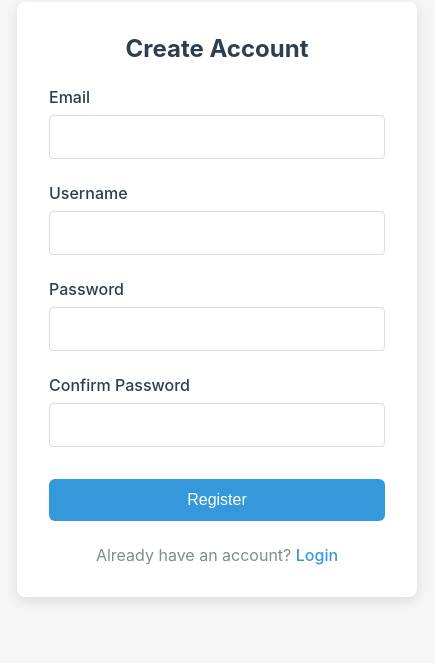
Test: Register Component › displays error on registration failure
In the field labelled "Email": (217, 137) [49, 115, 385, 159], type "test@example.com"
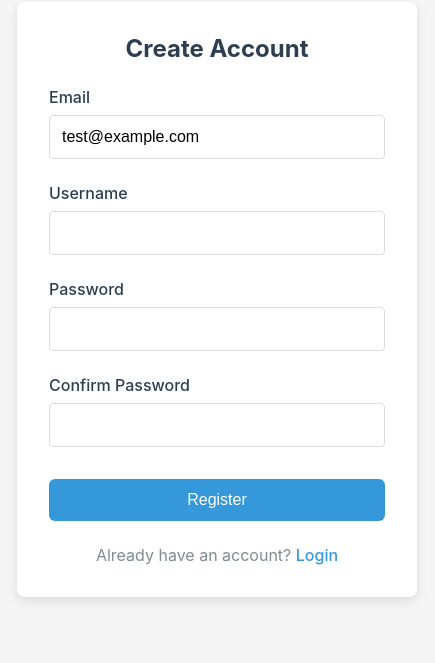
In the field labelled "Username": (217, 233) [49, 211, 385, 255], type "existinguser"
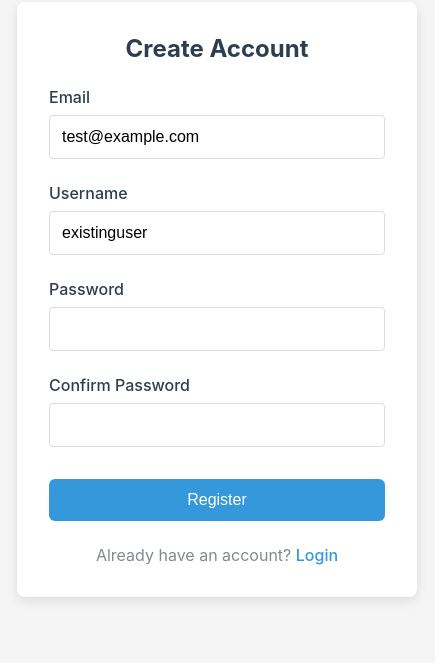
In the password field labelled "Password": (217, 329) [49, 307, 385, 351], type "password123"
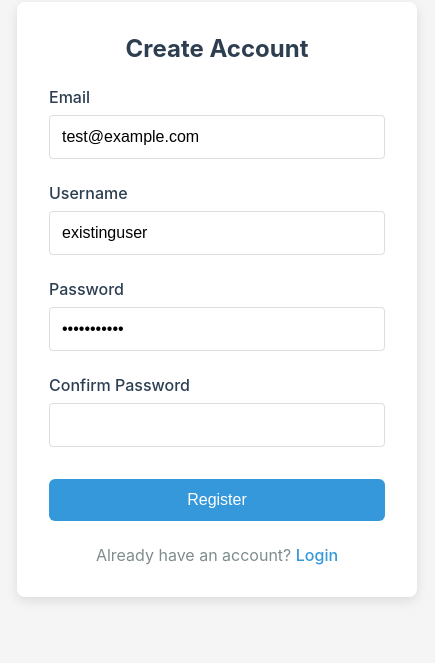
In the password field labelled "Confirm Password": (217, 425) [49, 403, 385, 447], type "password123"
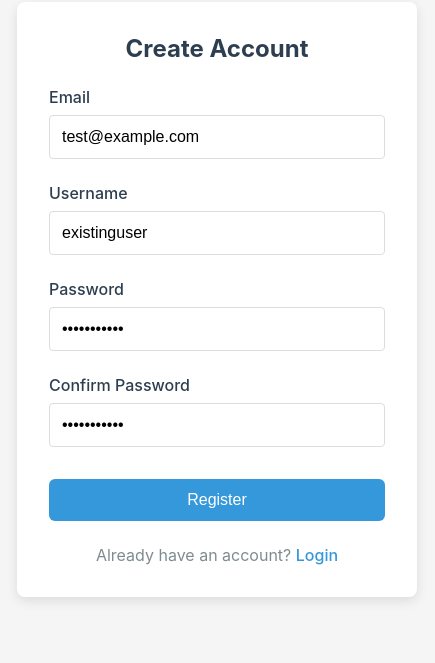
Click the button "Register": (217, 500) [49, 479, 385, 521]
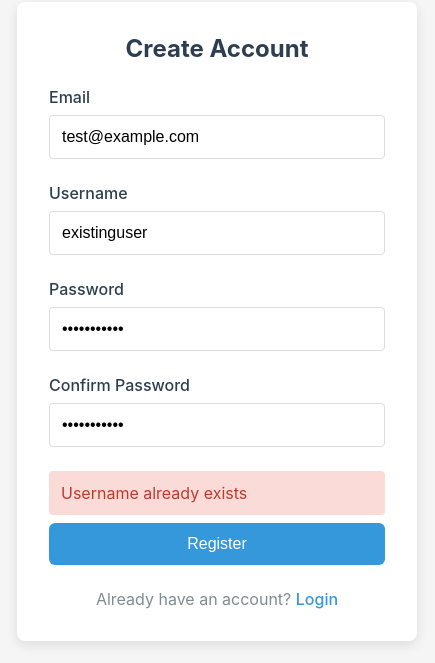
Check: the text "Username already exists" is shown, box [49, 471, 385, 515]
